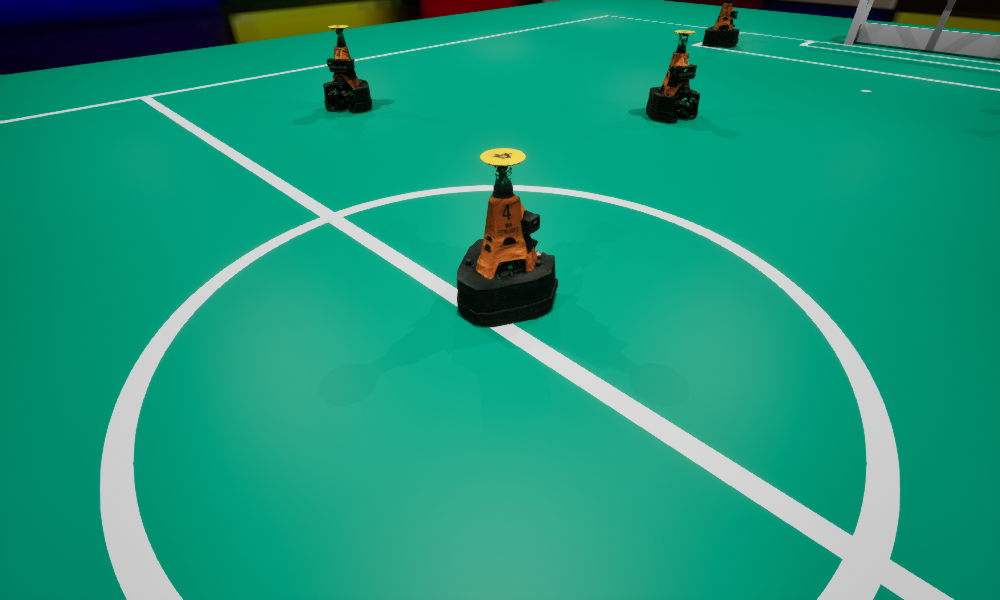o: (457, 148, 557, 326), (646, 30, 699, 123), (323, 25, 371, 112), (702, 0, 739, 47)
